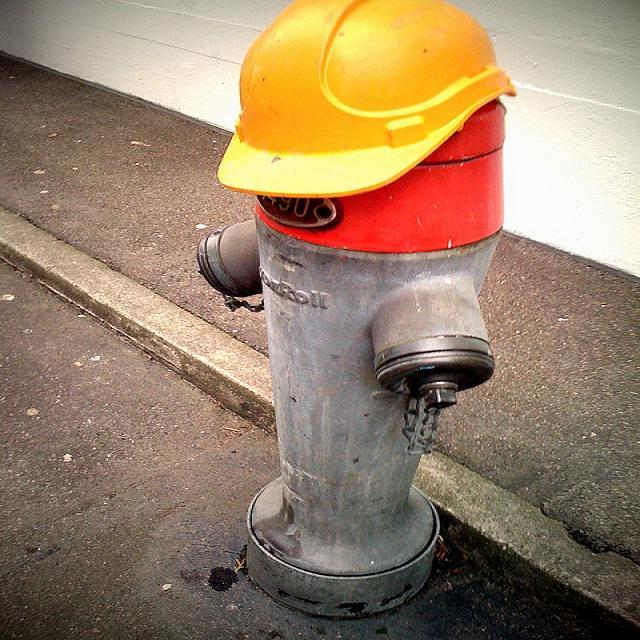fire_hydrant: (198, 103, 498, 625)
